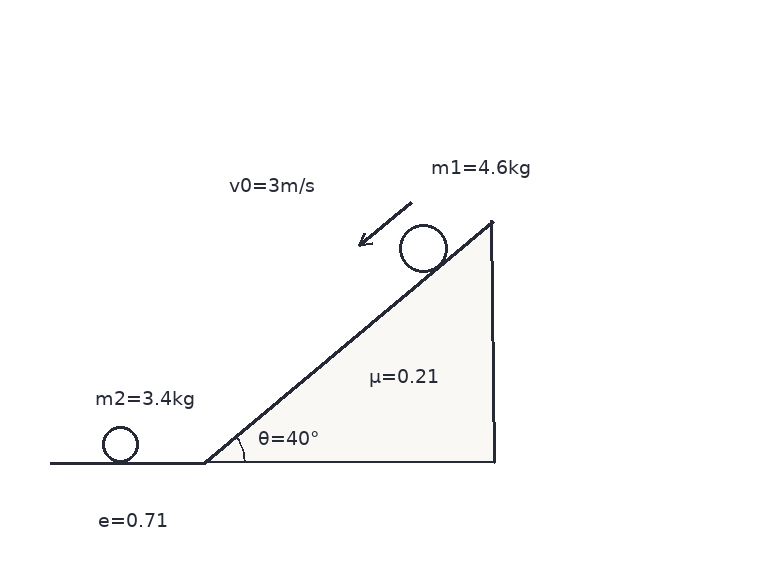ball: (397, 222, 449, 274), (100, 424, 140, 464)
ramp: (203, 218, 495, 464)
